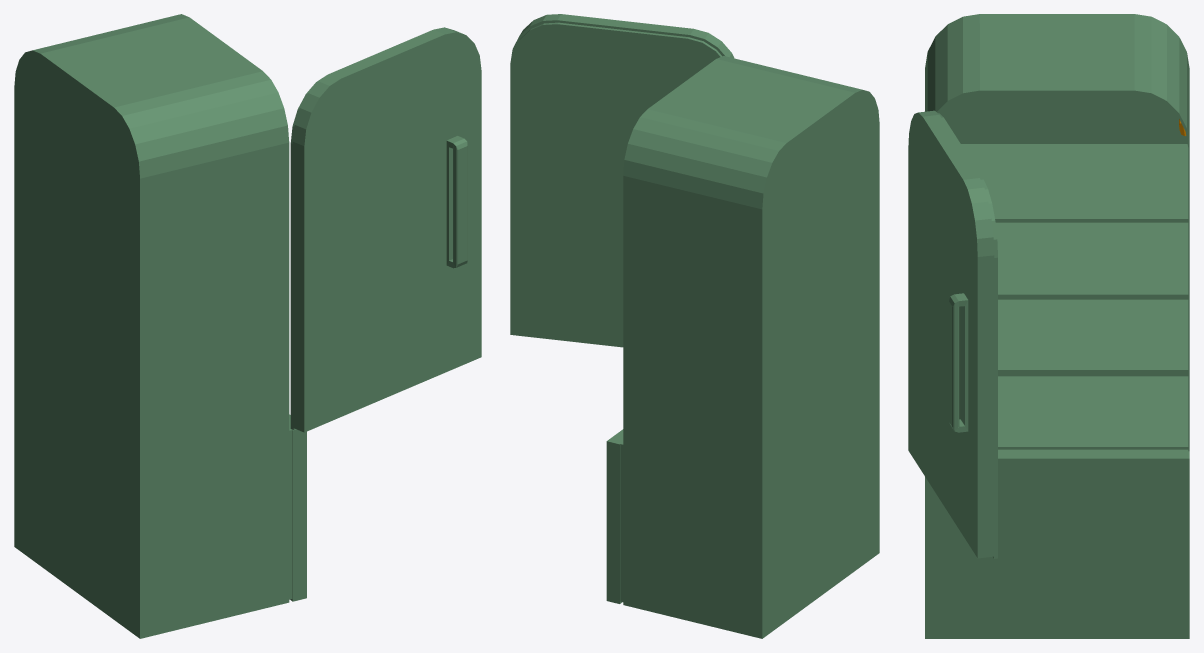
The model's file is Koelkast.fbx.
The picture shows the model from 3 angles, left to right: view 1: azimuth 30°, elevation 25°; view 2: azimuth 150°, elevation 25°; view 3: azimuth 270°, elevation 25°; orthographic projection. The views are drawn at different scales.
Visible parts, largest first — view 1: Cube.133, Cube.132; view 2: Cube.133, Cube.132; view 3: Cube.133, Cube.132.
Boxes of the visible parts, <box> form: Cube.133: <box>14,14,306,638</box>; Cube.132: <box>290,27,481,432</box>; Cube.133: <box>606,56,879,638</box>; Cube.132: <box>510,14,734,347</box>; Cube.133: <box>925,14,1189,638</box>; Cube.132: <box>908,110,997,558</box>.
Size of the model in its own units: 135 by 180 by 85.1.
